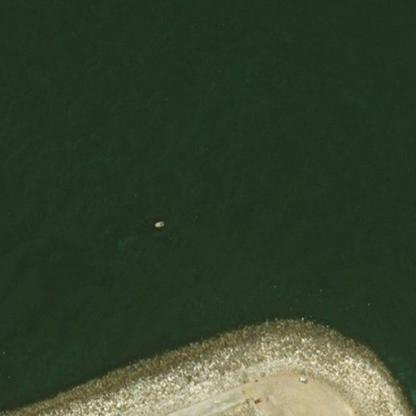ship: (148, 216, 168, 232)
